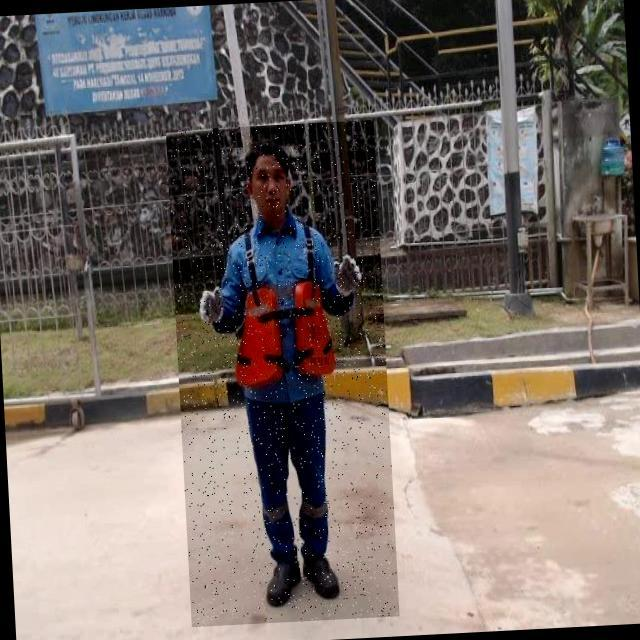Gloves: (194, 273, 232, 341), (329, 249, 365, 307)
Person: (183, 130, 373, 626)
Safety Boot: (263, 558, 308, 614), (303, 550, 345, 610)
Safety Vest: (234, 284, 337, 394)
no-helmet: (239, 140, 292, 176)
